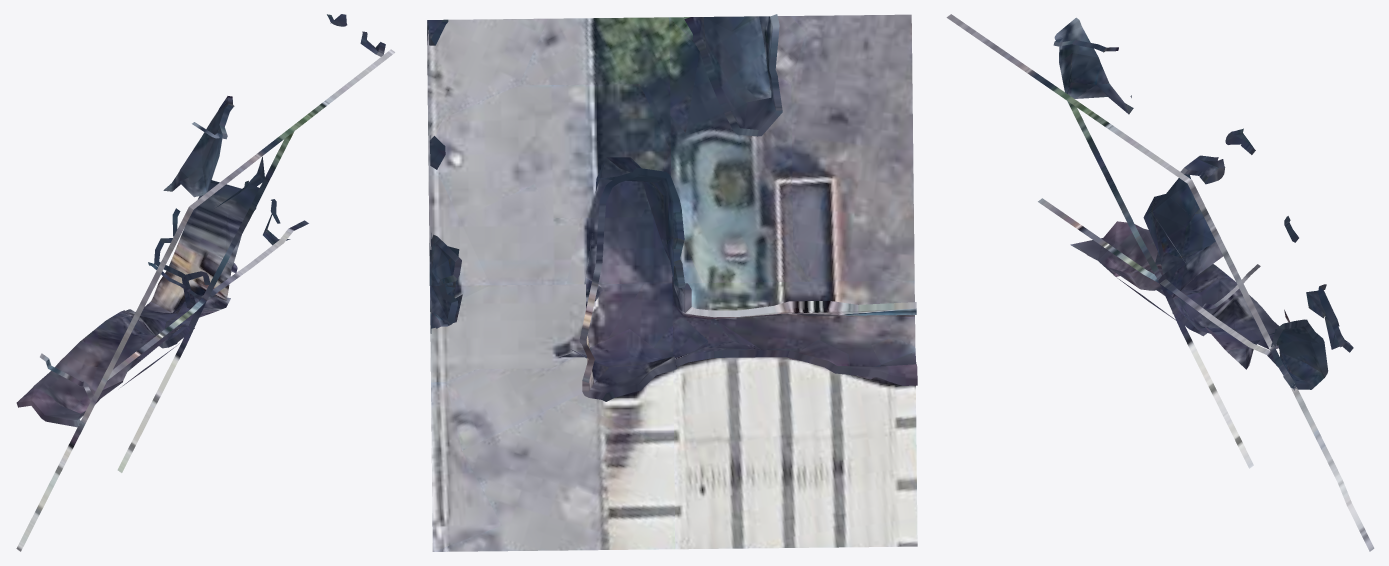
3 views of the same model, side by side, from view 1: azimuth 30°, elevation 25°; view 2: azimuth 150°, elevation 25°; view 3: azimuth 270°, elevation 25° (orthographic). The views are drawn at different scales.
Bounding box in the file's own units: 38.28 × 37.17 × 32.19.
Materials: 1 (1 with a texture image).
